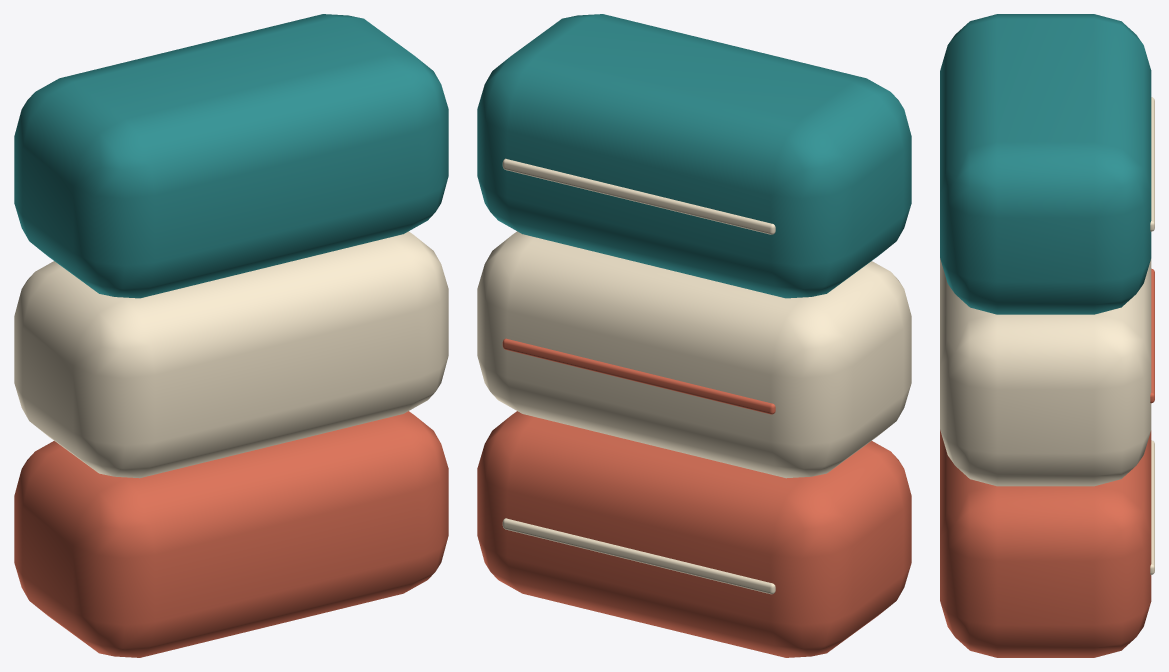
The model's file is IntroCushionStack.fbx.
3 views of the same model, side by side, from view 1: azimuth 30°, elevation 25°; view 2: azimuth 150°, elevation 25°; view 3: azimuth 270°, elevation 25° (orthographic). The views are drawn at different scales.
Visible parts, largest first — view 1: SoftPlayCushion.002, SoftPlayCushion, SoftPlayCushion.001; view 2: SoftPlayCushion.002, SoftPlayCushion, SoftPlayCushion.001, WovenCushionSeam.002, WovenCushionSeam.001, WovenCushionSeam; view 3: SoftPlayCushion.002, SoftPlayCushion.001, SoftPlayCushion, WovenCushionSeam.001, WovenCushionSeam, WovenCushionSeam.002.
Part boxes in pixels (x1,y1,x2,y2): SoftPlayCushion.002: (14,14,448,298); SoftPlayCushion: (14,411,448,657); SoftPlayCushion.001: (14,231,448,478); SoftPlayCushion.002: (477,14,911,298); SoftPlayCushion: (477,411,911,657); SoftPlayCushion.001: (477,231,911,478); WovenCushionSeam.002: (502,158,775,234); WovenCushionSeam.001: (502,338,775,414); WovenCushionSeam: (502,518,775,594); SoftPlayCushion.002: (940,14,1151,314); SoftPlayCushion.001: (940,258,1151,486); SoftPlayCushion: (940,430,1151,657); WovenCushionSeam.001: (1150,268,1154,403); WovenCushionSeam: (1150,440,1154,574); WovenCushionSeam.002: (1150,97,1154,231).
Bounding box in the file's own units: 46 × 64 × 24.4.
